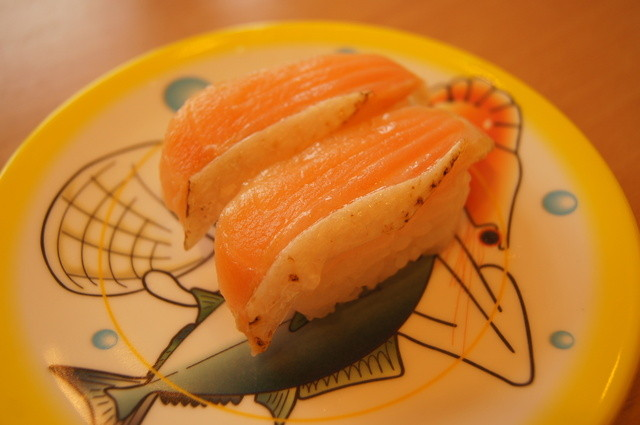salmon: (227, 103, 483, 327)
